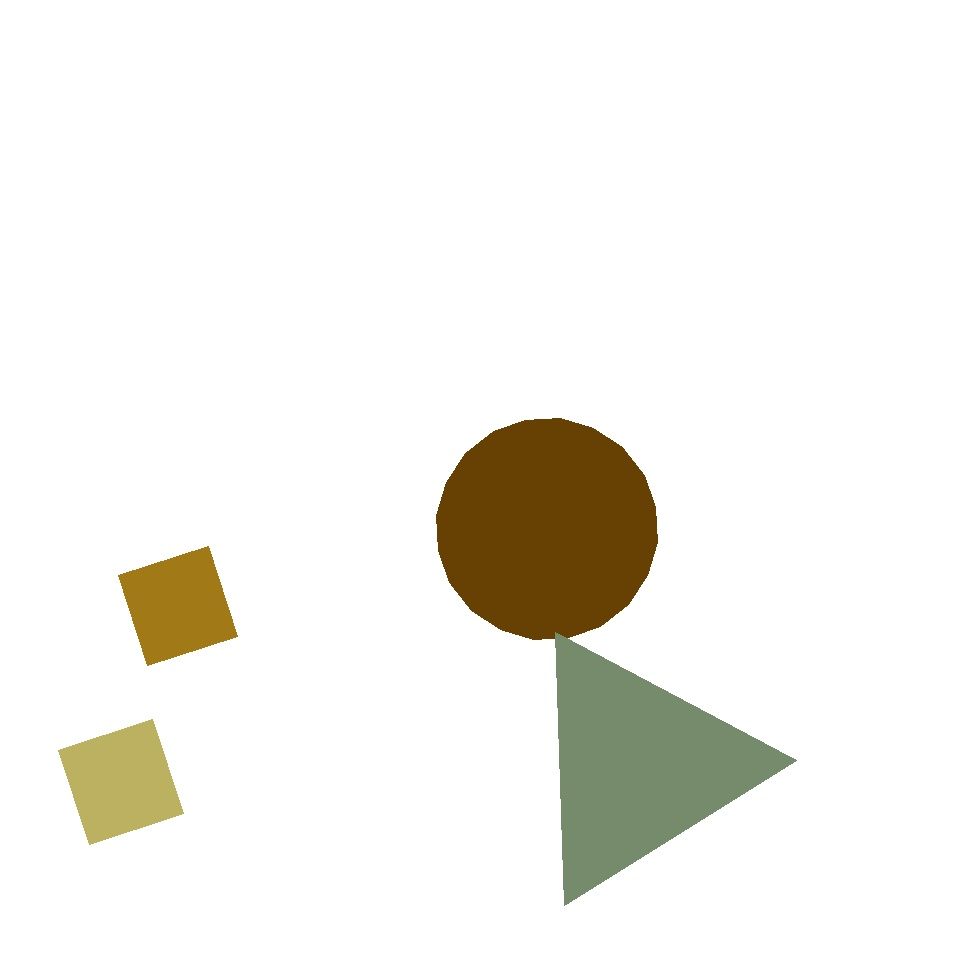circle: (518, 630, 760, 903), (450, 132, 627, 326), (620, 732, 782, 896)
square: (58, 720, 184, 844), (118, 546, 238, 666), (190, 554, 286, 650), (578, 846, 668, 935)
triangle: (60, 213, 407, 560), (95, 572, 367, 844), (436, 418, 658, 640)
